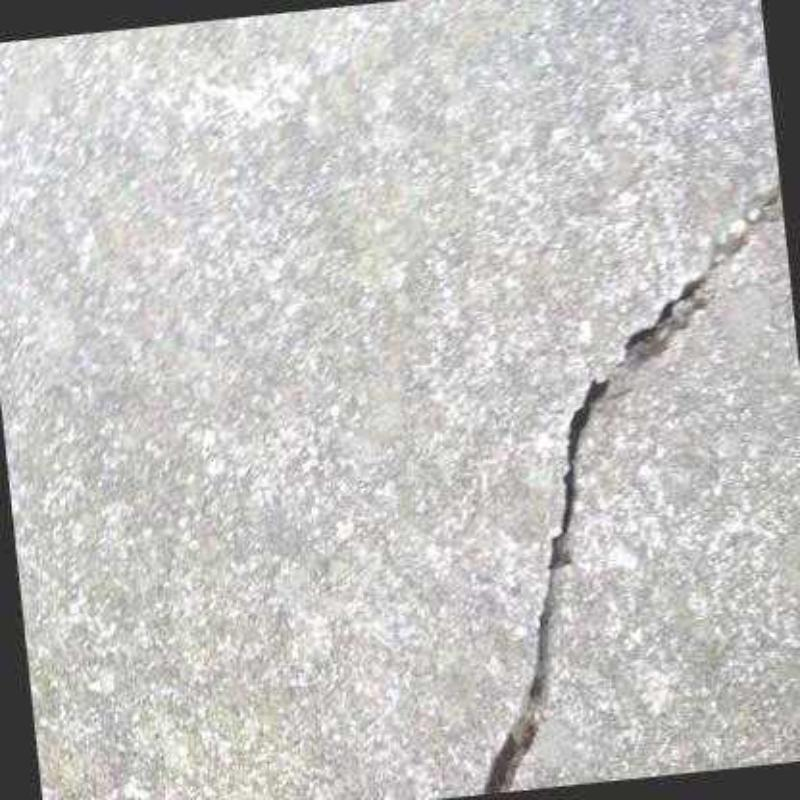pothole: (477, 169, 779, 794)
